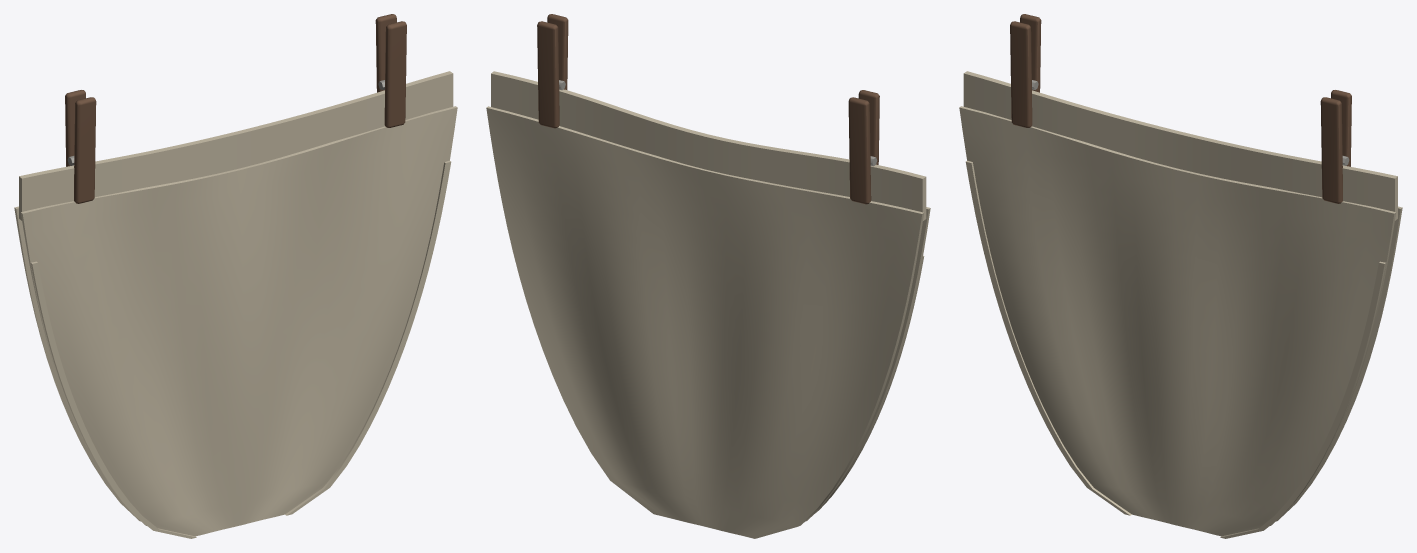
The model's file is knickers-line-plain-c317c5648693.glb.
3 views of the same model, side by side, from view 1: azimuth 30°, elevation 25°; view 2: azimuth 150°, elevation 25°; view 3: azimuth 330°, elevation 25° (orthographic).
Parts seen in each view (by area): view 1: cloth-cream, wood; view 2: cloth-cream, wood; view 3: cloth-cream, wood.
Part boxes in pixels (x1,y1,x2,y2): cloth-cream: [14, 71, 457, 538]; wood: [65, 14, 406, 203]; cloth-cream: [486, 71, 930, 538]; wood: [537, 14, 879, 204]; cloth-cream: [959, 71, 1402, 538]; wood: [1010, 14, 1351, 203].
Size of the model in its own units: 0.237 by 0.242 by 0.014.
